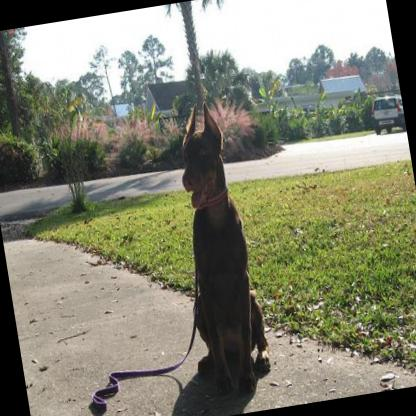Doberman: (154, 95, 272, 397)
